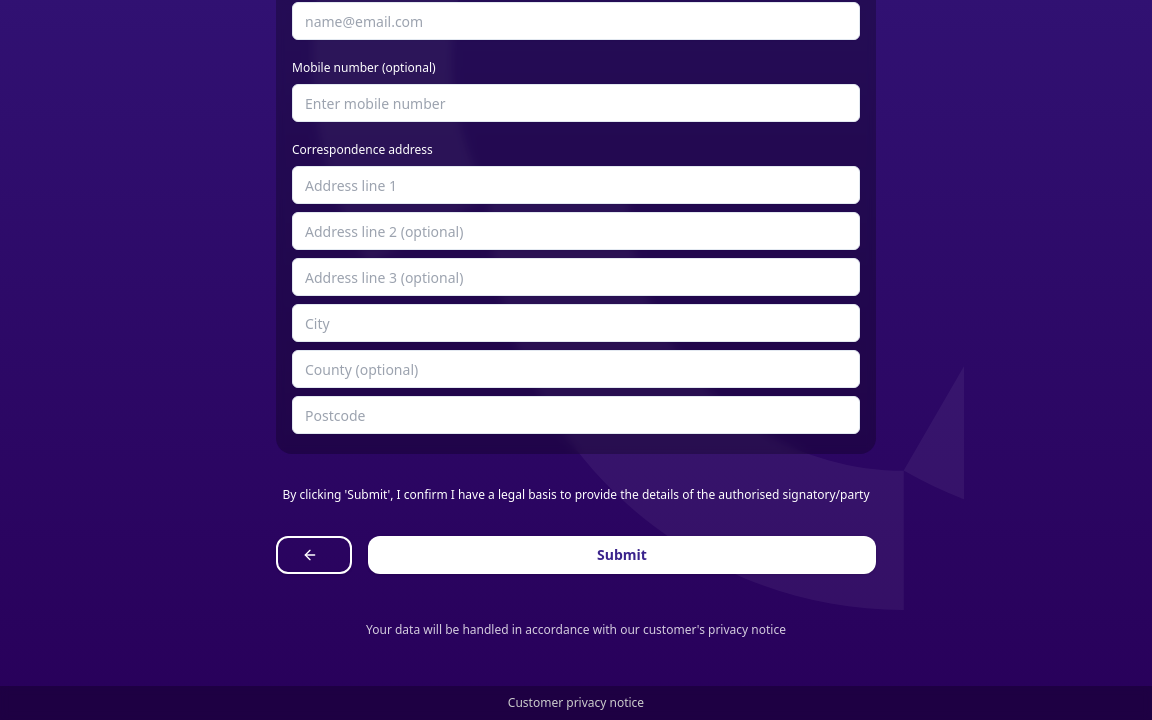
it: NotAuthorizedSignatory › form validation › shows requiredFieldsError when submitting empty form
(page scrolled)
Click the button "Submit" at point(622, 555), box x1=368 y1=536 x2=876 y2=574
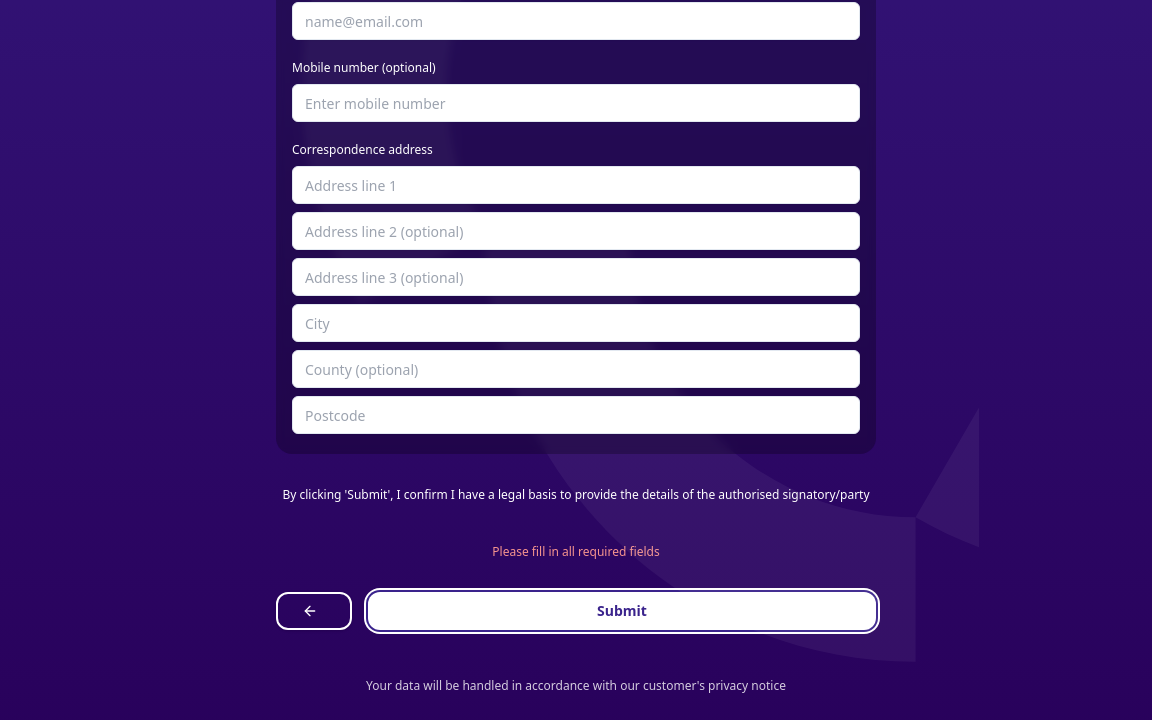
Check: the text "Please fill in all required fields" is shown, box x1=492 y1=543 x2=660 y2=560
